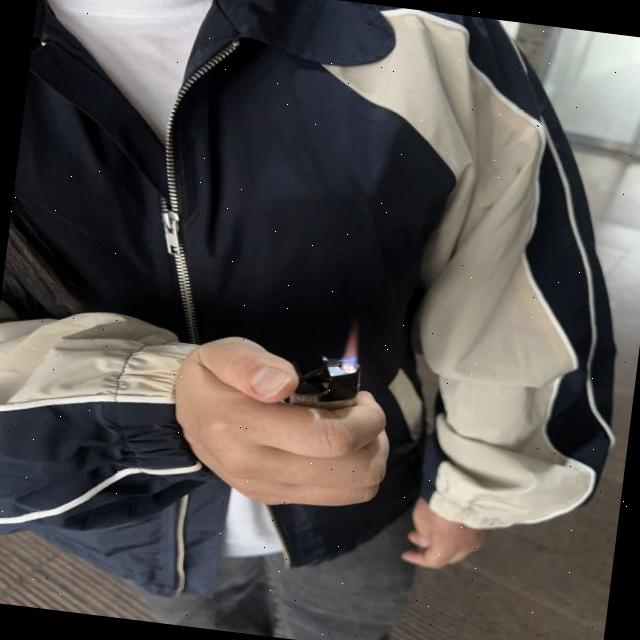fire: (341, 322, 361, 369)
